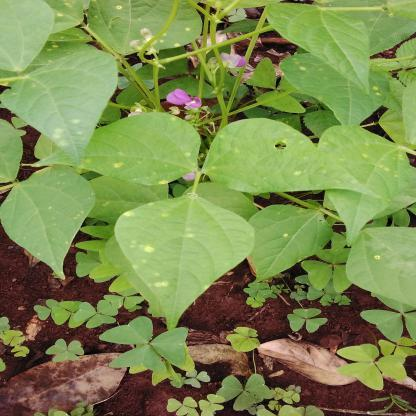Beans_Rust: (114, 196, 256, 330), (2, 44, 121, 165), (45, 110, 201, 188), (318, 125, 416, 246), (0, 167, 96, 273), (202, 117, 322, 193), (284, 51, 389, 130), (247, 206, 329, 284), (85, 1, 206, 51), (348, 227, 416, 314)
